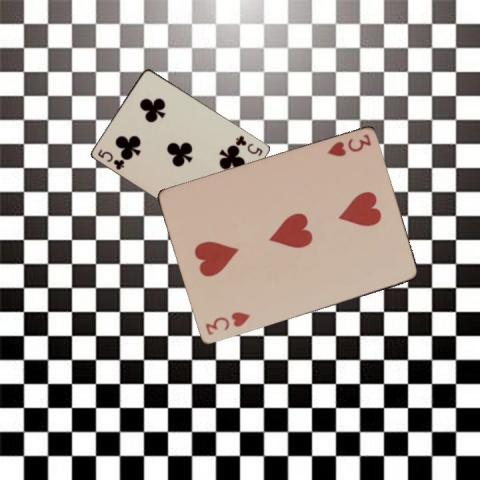3h: (202, 308, 252, 336), (324, 131, 372, 159)
5c: (233, 132, 264, 158), (95, 146, 126, 171)
